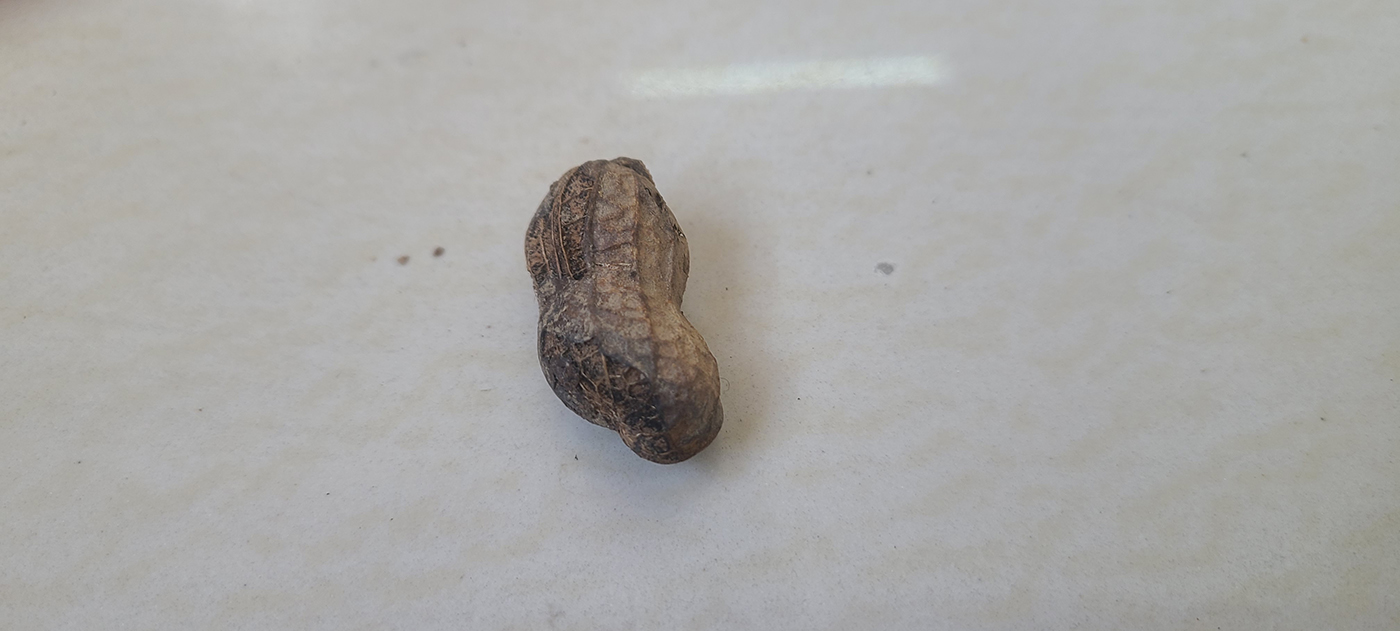l: (527, 152, 724, 462)
